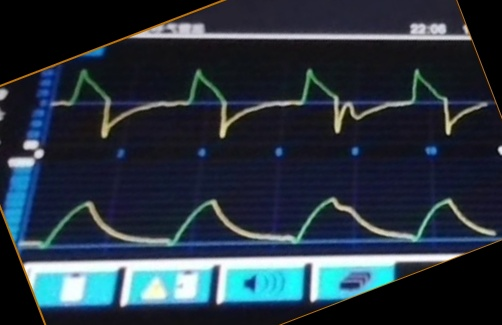Premature_cycling Flow: (68, 60, 481, 141)
Premature_cycling Volume: (34, 189, 485, 245)
